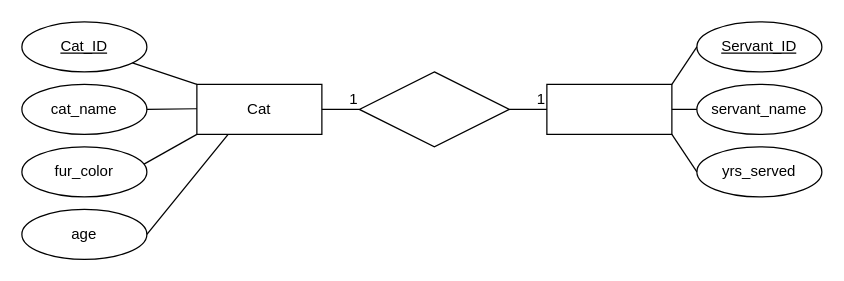
The diagram is 844 pixels wide and 281 high, and some of its shapes have lost their labels. Here are the shapes that lost their labels. From the top down, the centre of each, then its label:
At (433,109): "has a".
At (609,108): "Servant".
